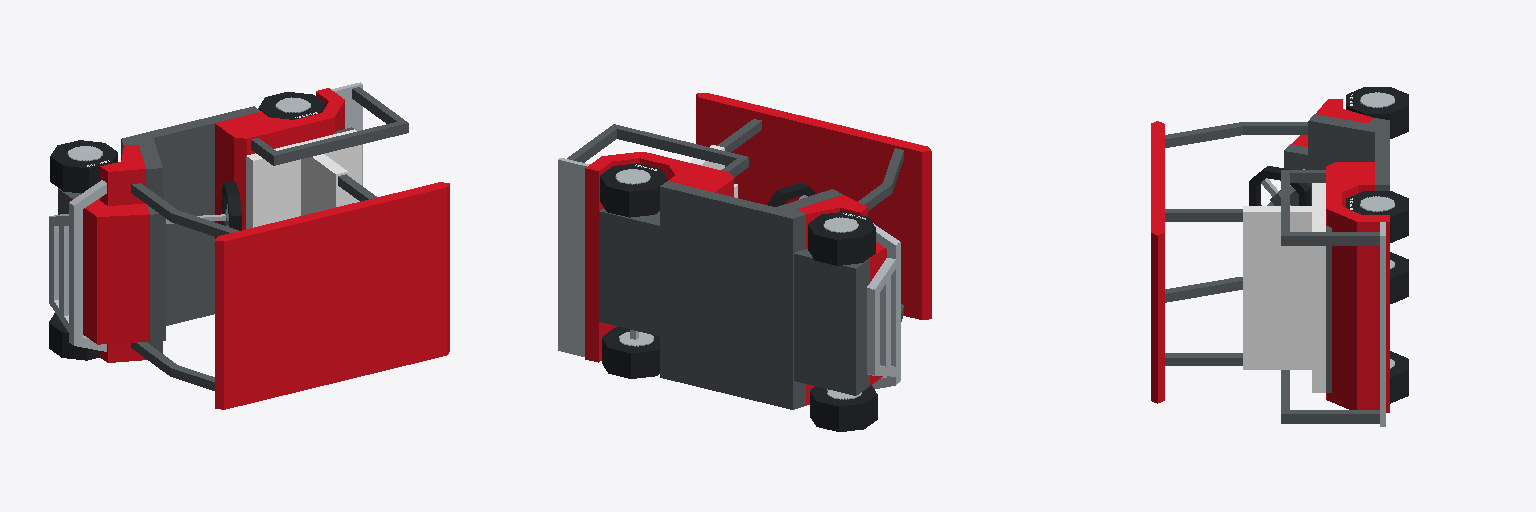
File: tinker.obj
3 renders of one model, left to right at view 1: azimuth 30°, elevation 25°; view 2: azimuth 150°, elevation 25°; view 3: azimuth 270°, elevation 25°, orthographic.
Parts seen in each view (by area): view 1: obj_0; view 2: obj_0; view 3: obj_0.
Part boxes in pixels (x1,y1,x2,y2): obj_0: (49, 82, 449, 409); obj_0: (558, 93, 931, 431); obj_0: (1151, 87, 1408, 426).
Bounding box in the file's own units: 136 × 80 × 97.